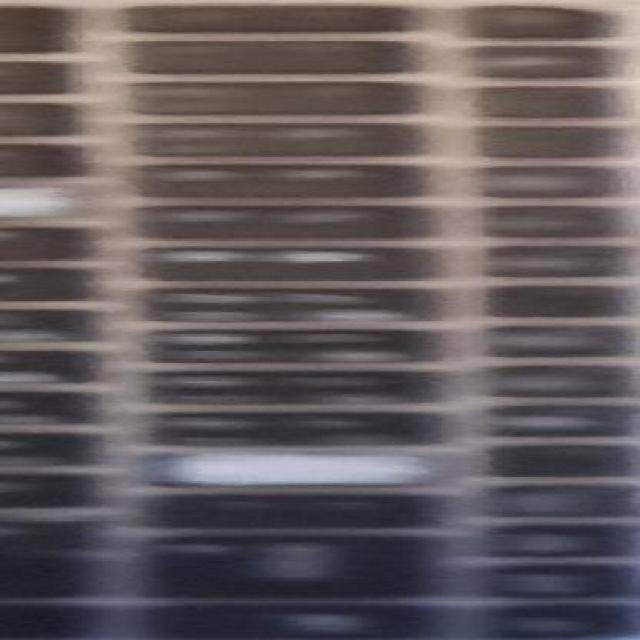Keyboard problems: (152, 448, 434, 486)
